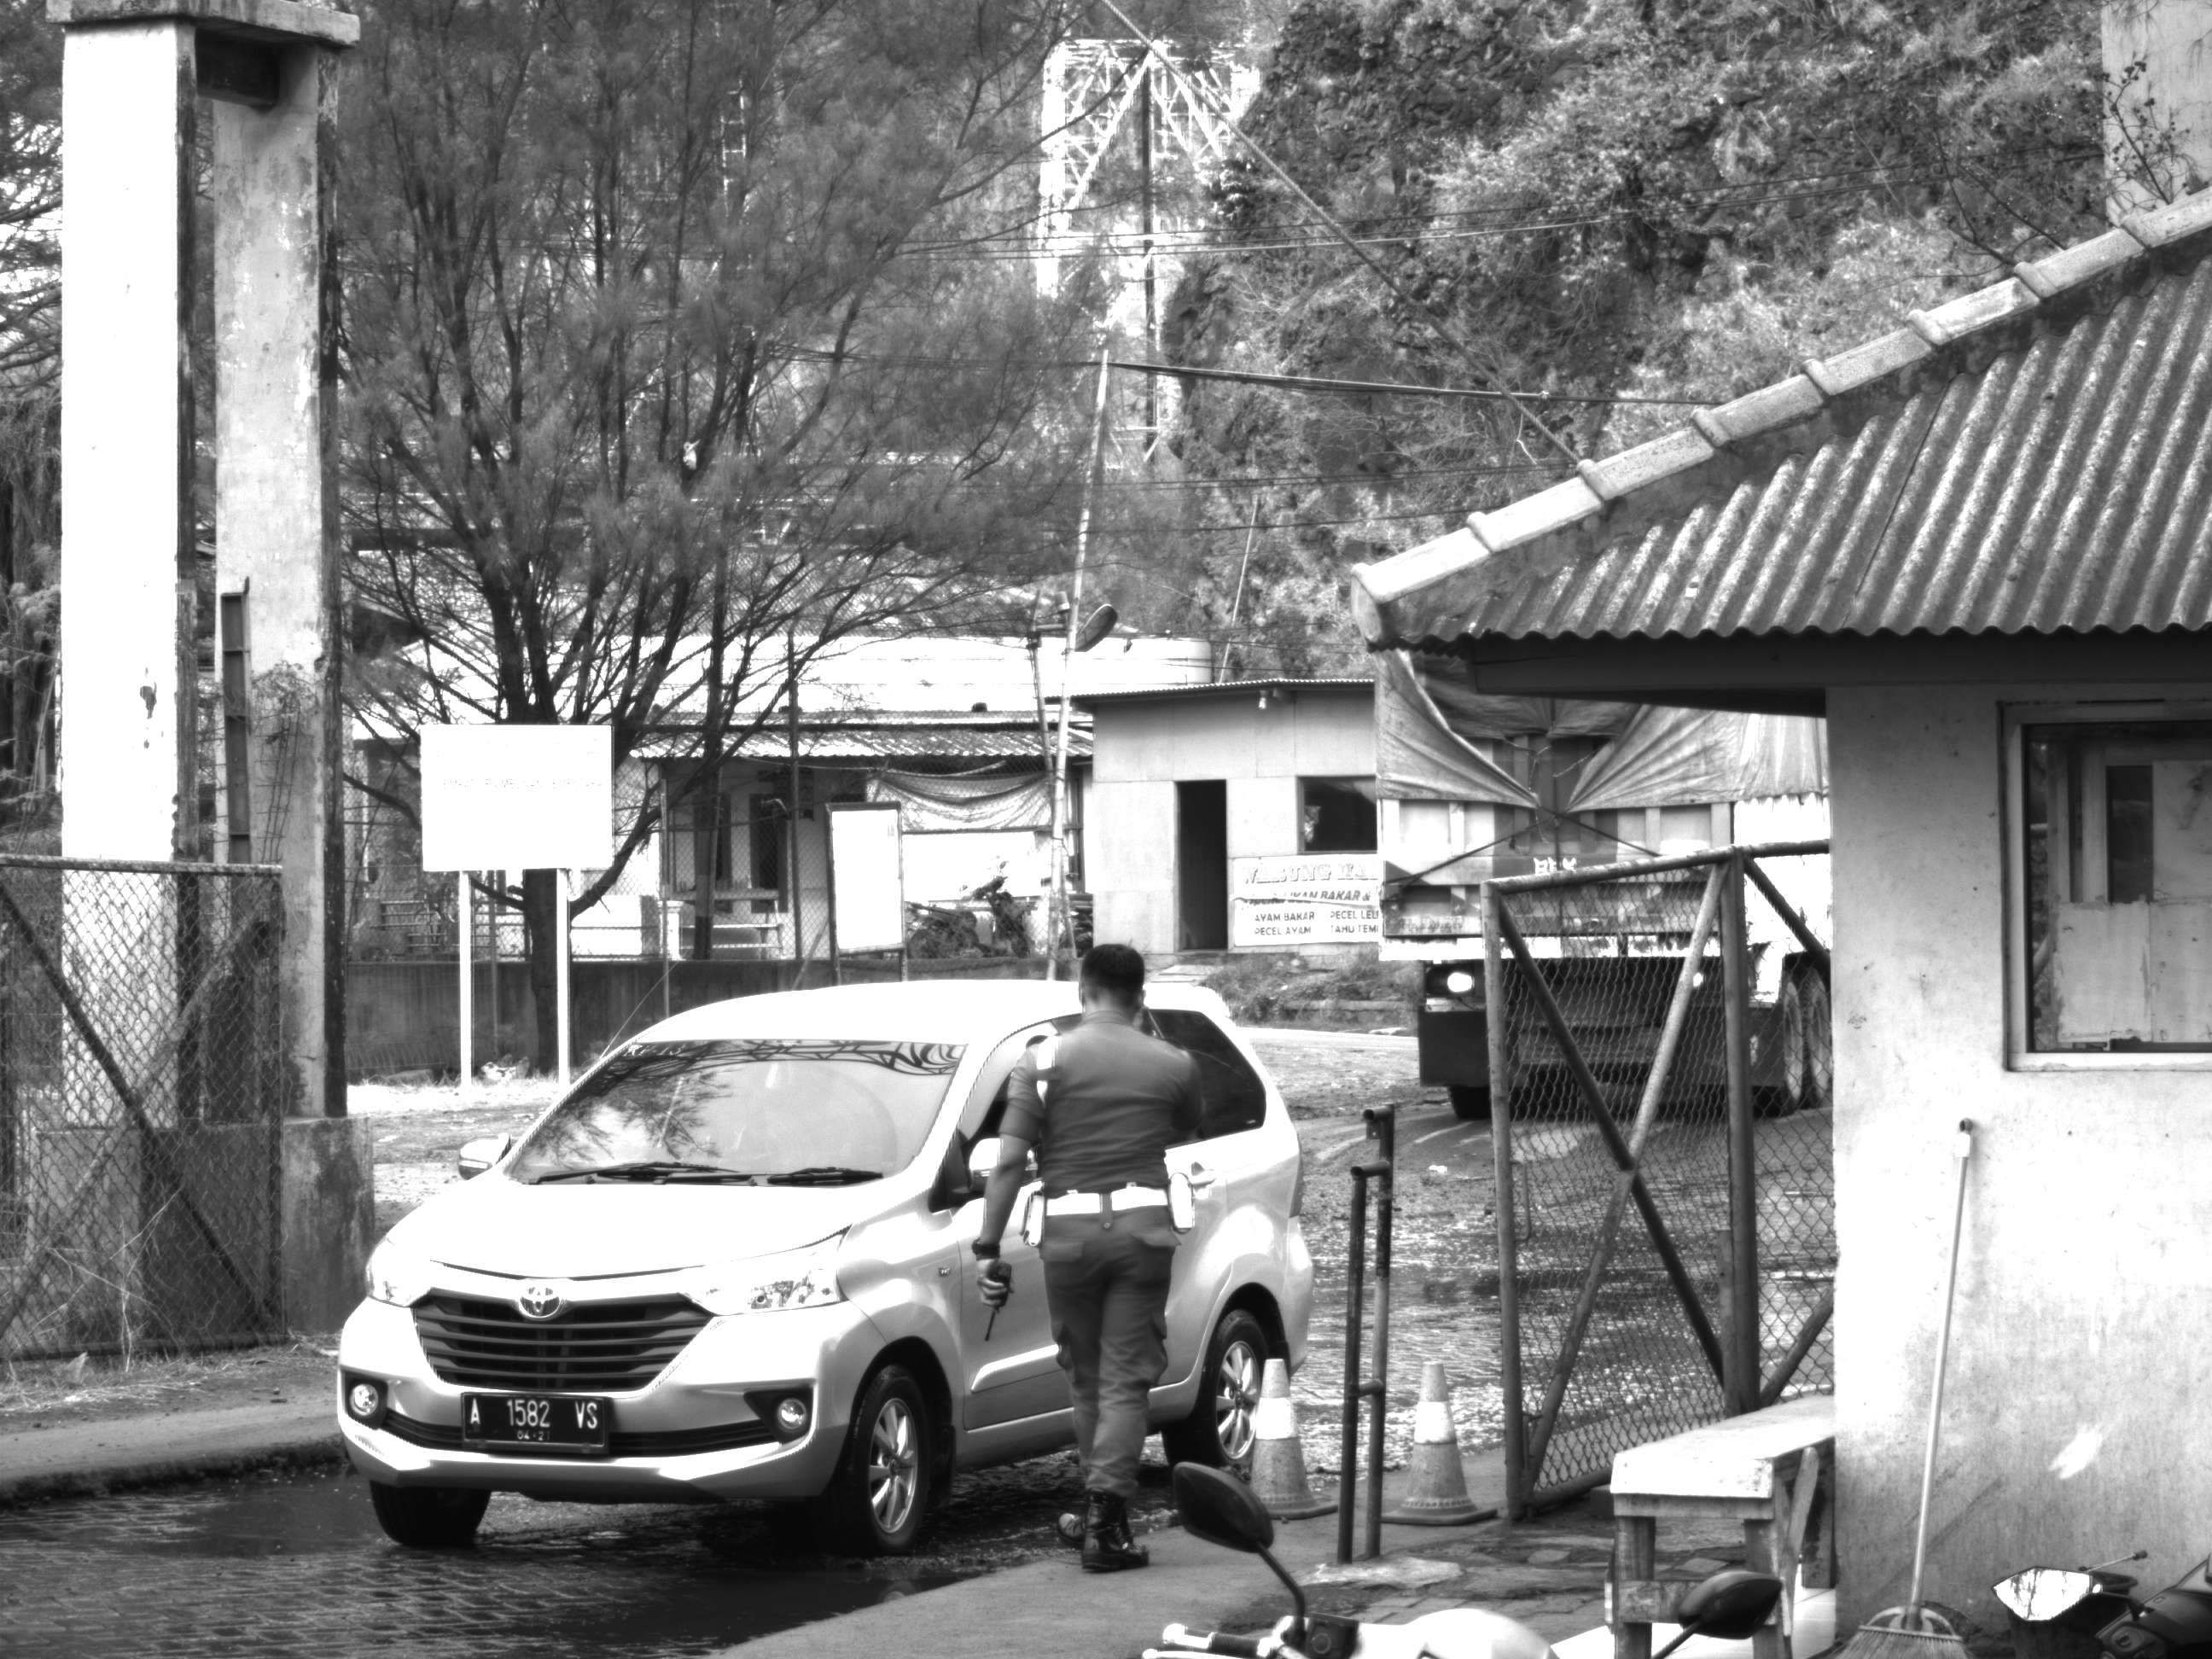day_small_front: (322, 969, 978, 1564)
plate: (461, 1390, 614, 1454)
